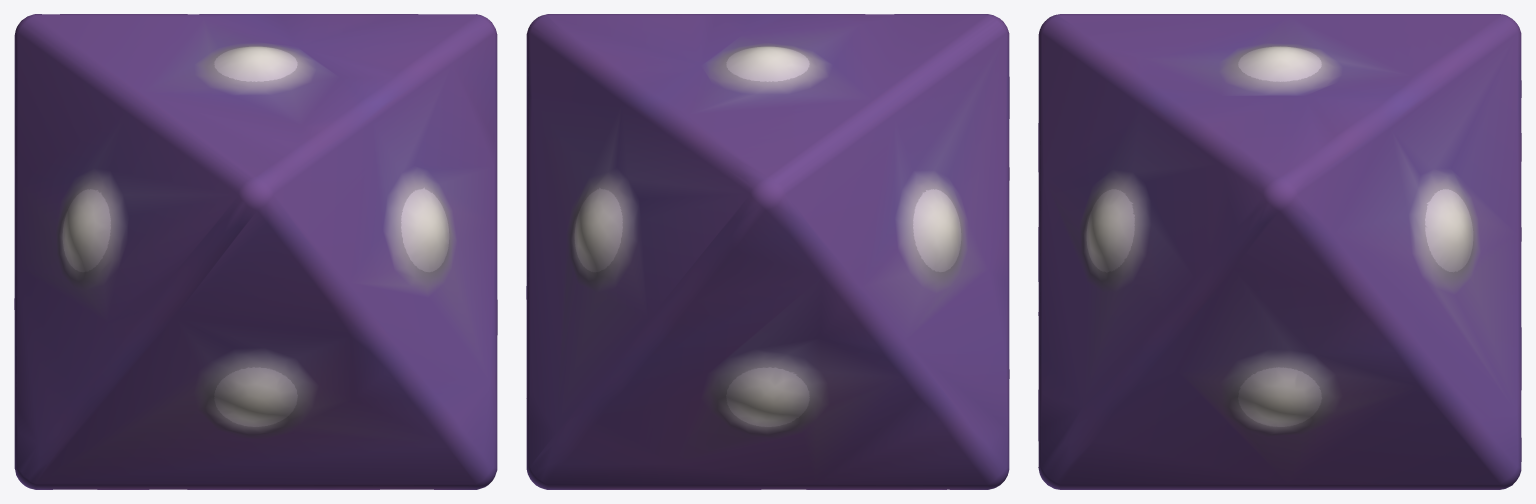
Rendered from die-d8-webcap.glb.
3 renders of one model, left to right at view 1: azimuth 30°, elevation 25°; view 2: azimuth 150°, elevation 25°; view 3: azimuth 270°, elevation 25°, orthographic.
Parts seen in each view (by area): view 1: body; view 2: body; view 3: body.
Part boxes in pixels (x1=…): body: x1=14, y1=14, x2=497, y2=489; body: x1=526, y1=14, x2=1009, y2=489; body: x1=1038, y1=14, x2=1521, y2=489.
Bounding box in the file's own units: 2.82 × 2.25 × 2.48.
